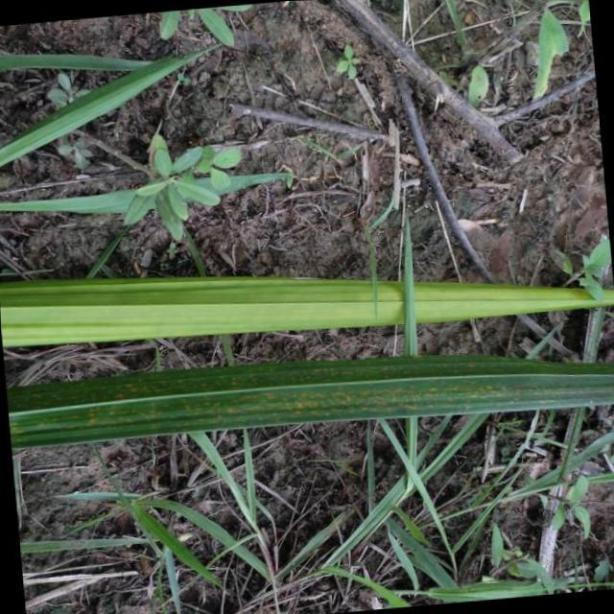nitrogen: (0, 353, 614, 450), (0, 275, 614, 350)
